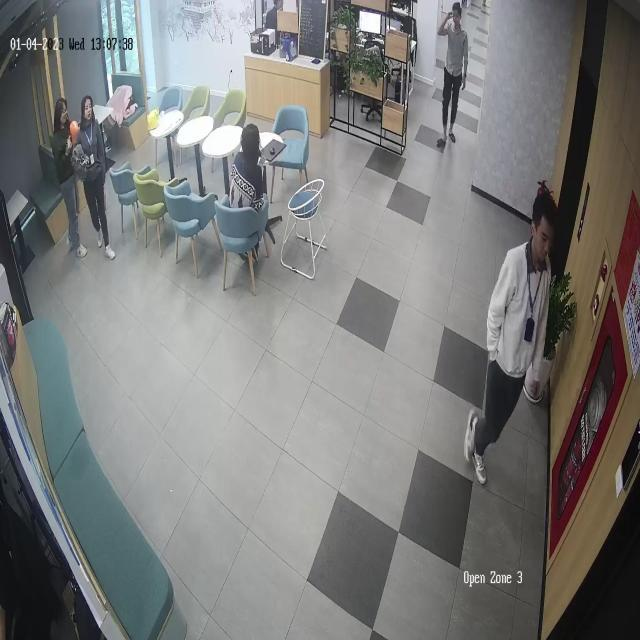person: (463, 181, 559, 487), (67, 95, 115, 262), (229, 121, 279, 259), (54, 97, 91, 260), (436, 2, 469, 151)
